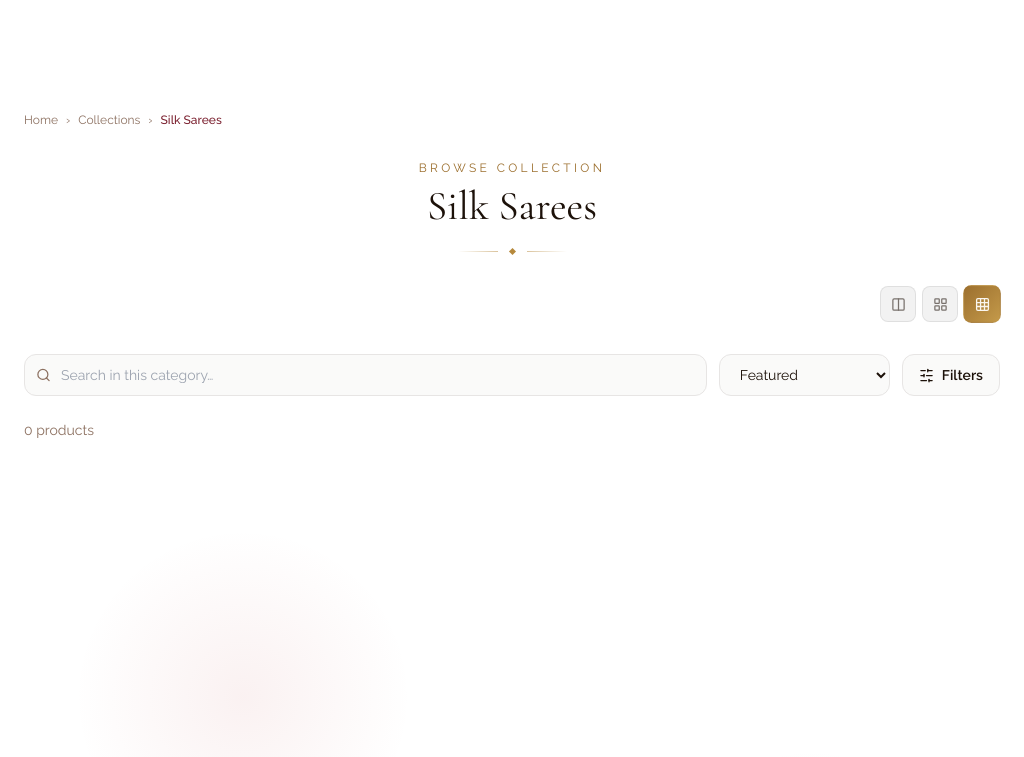
Test case: CategoryPage › opens the filter panel on Filters button click
Step 1. Click the button "Filters" → (951, 375), box [902,354,1000,396]
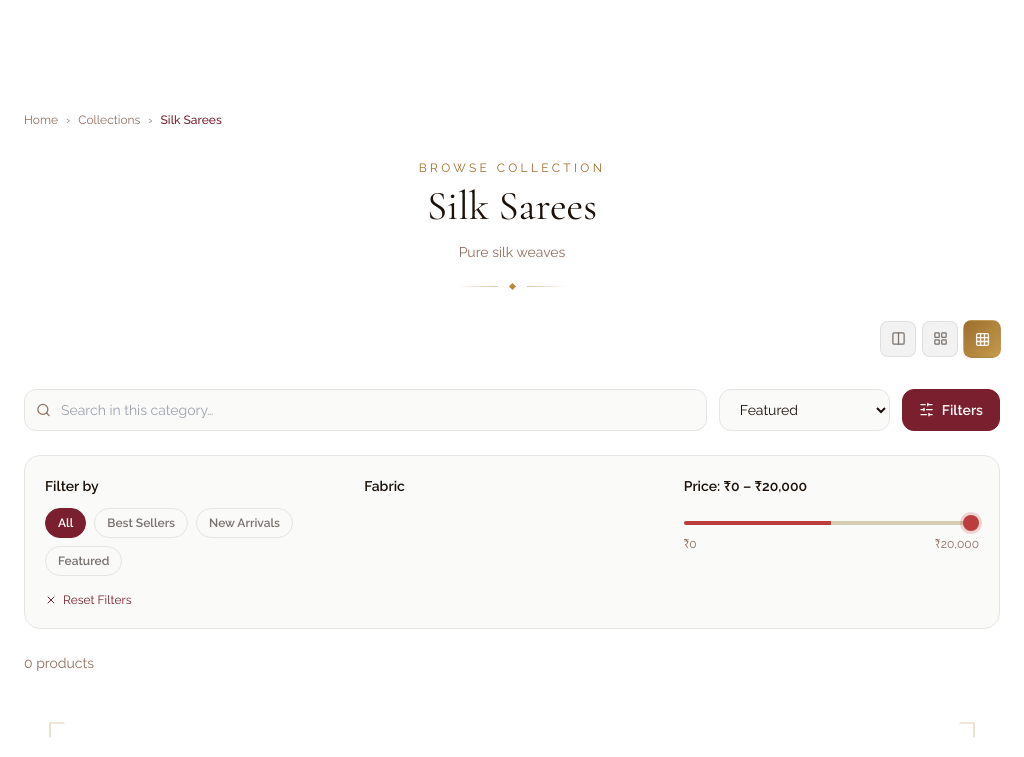
Now the heading "Filter by" is shown, box [45,478,99,494]
